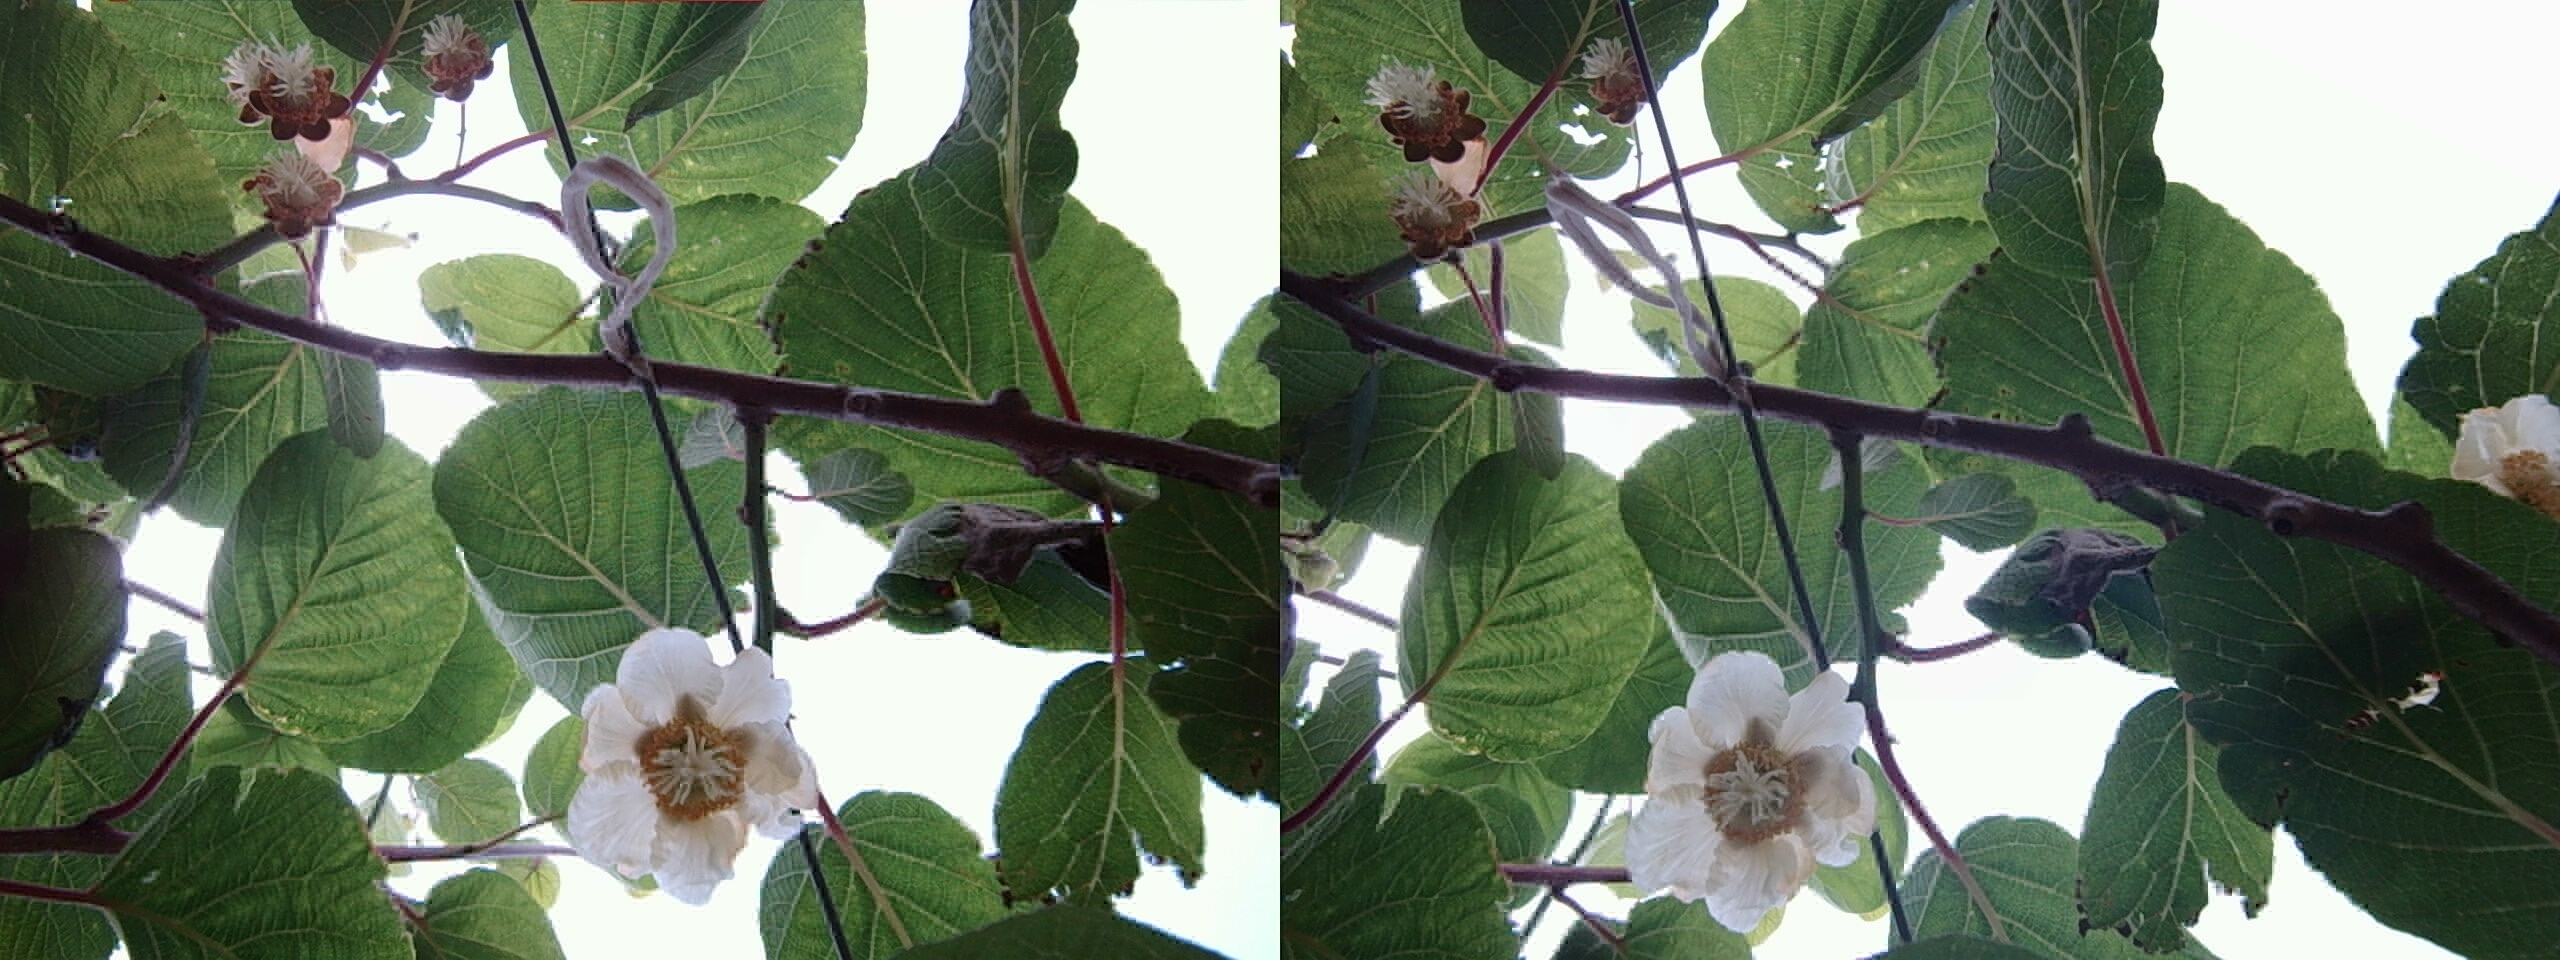flower: (567, 620, 816, 901), (1634, 637, 1876, 922)
